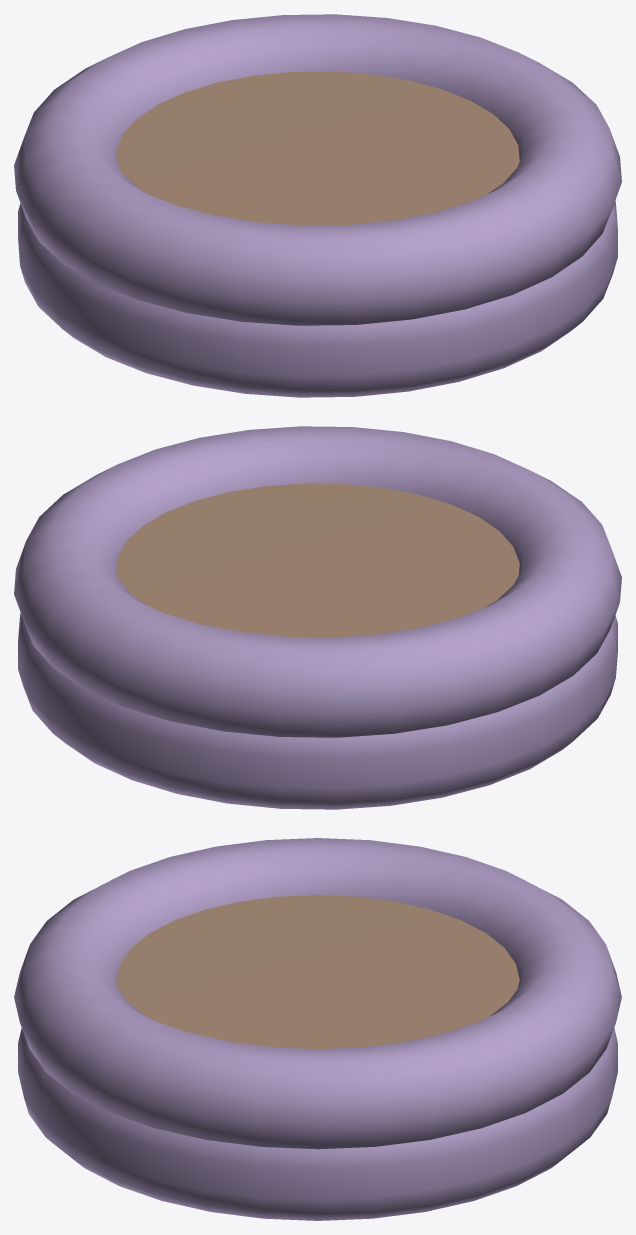
Rendered from bowlPurple.glb.
The picture shows the model from 3 angles, top to bottom: view 1: azimuth 30°, elevation 25°; view 2: azimuth 150°, elevation 25°; view 3: azimuth 270°, elevation 25°; orthographic projection.
Parts seen in each view (by area): view 1: Bowl rim, Food, Bowl base; view 2: Bowl rim, Food, Bowl base; view 3: Bowl rim, Food, Bowl base.
Boxes of the visible parts, x1,y1,x2,y2 form: Bowl rim: [14, 14, 621, 325]; Food: [116, 71, 519, 225]; Bowl base: [18, 201, 617, 397]; Bowl rim: [14, 426, 621, 737]; Food: [116, 483, 519, 637]; Bowl base: [18, 613, 617, 809]; Bowl rim: [14, 838, 621, 1149]; Food: [116, 895, 519, 1049]; Bowl base: [18, 1028, 617, 1220].
Size of the model in its own units: 0.73 by 0.2068 by 0.73.
